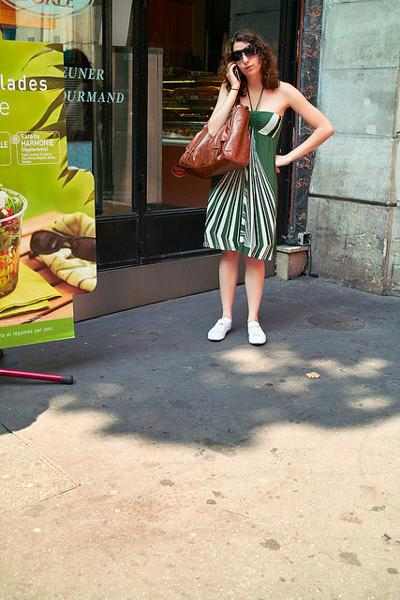person: (203, 28, 335, 348)
